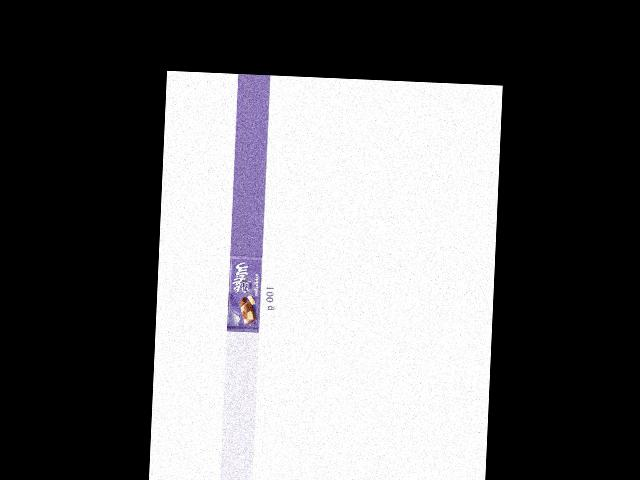chocolate: (226, 254, 263, 333)
